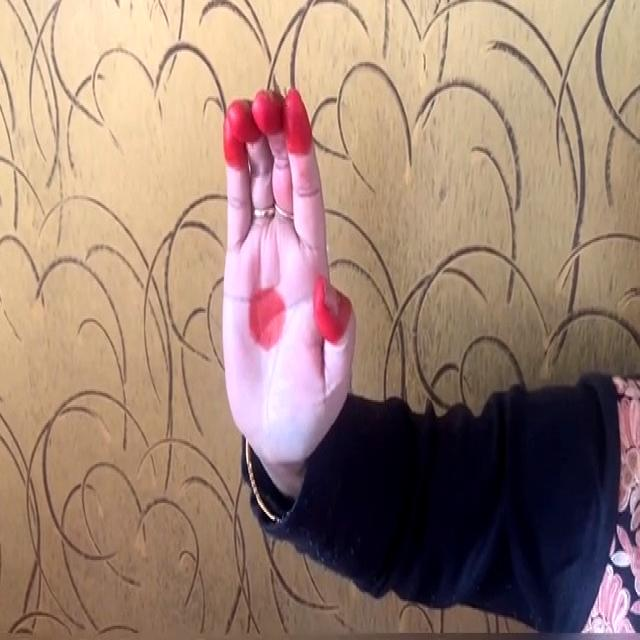Sarpashirsha: (196, 66, 376, 474)
